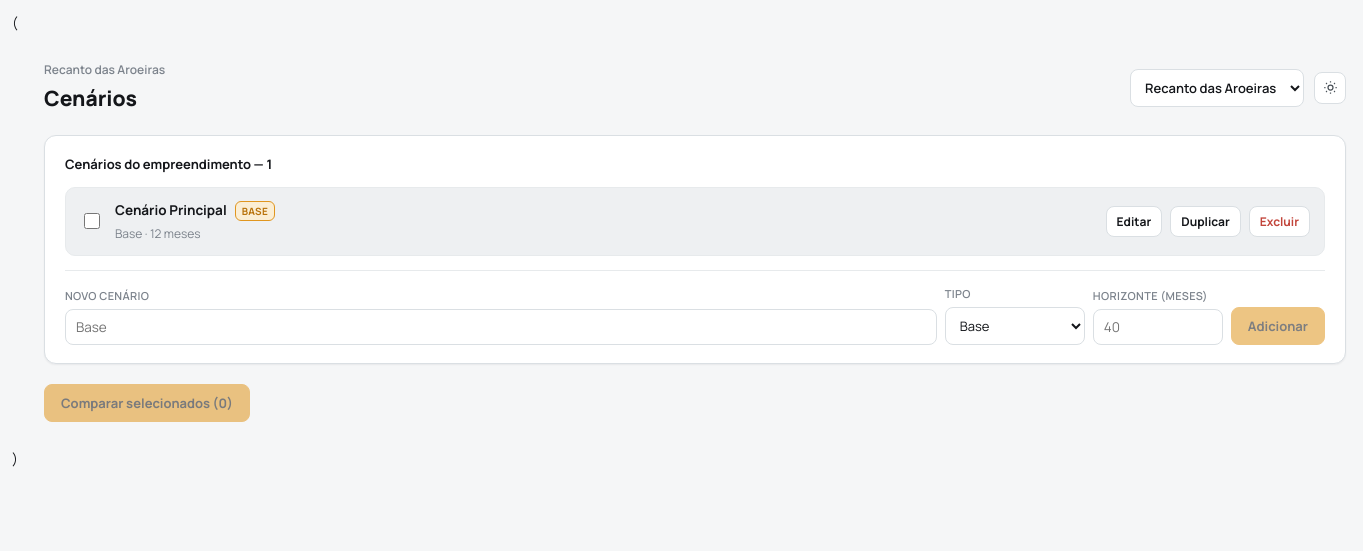
it: CenariosPage › mostra o erro do backend quando a comparação falha
Click the checkbox at (92, 221), box [84, 213, 100, 229]
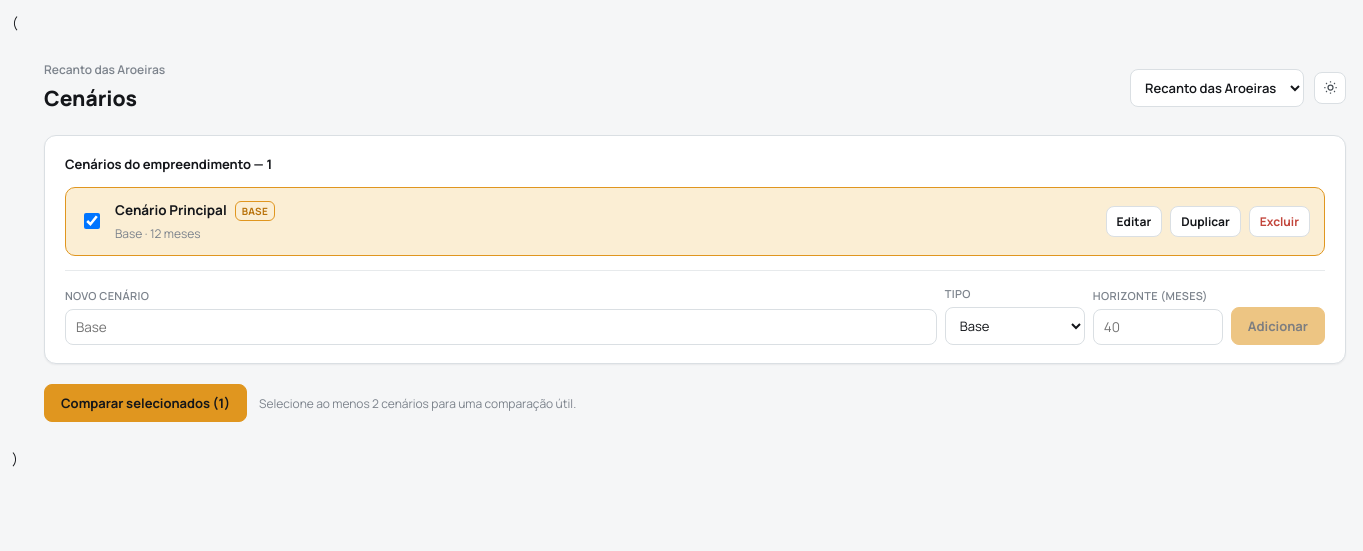
Click the button "Comparar selecionados (1)" at (146, 403), box [44, 384, 247, 422]
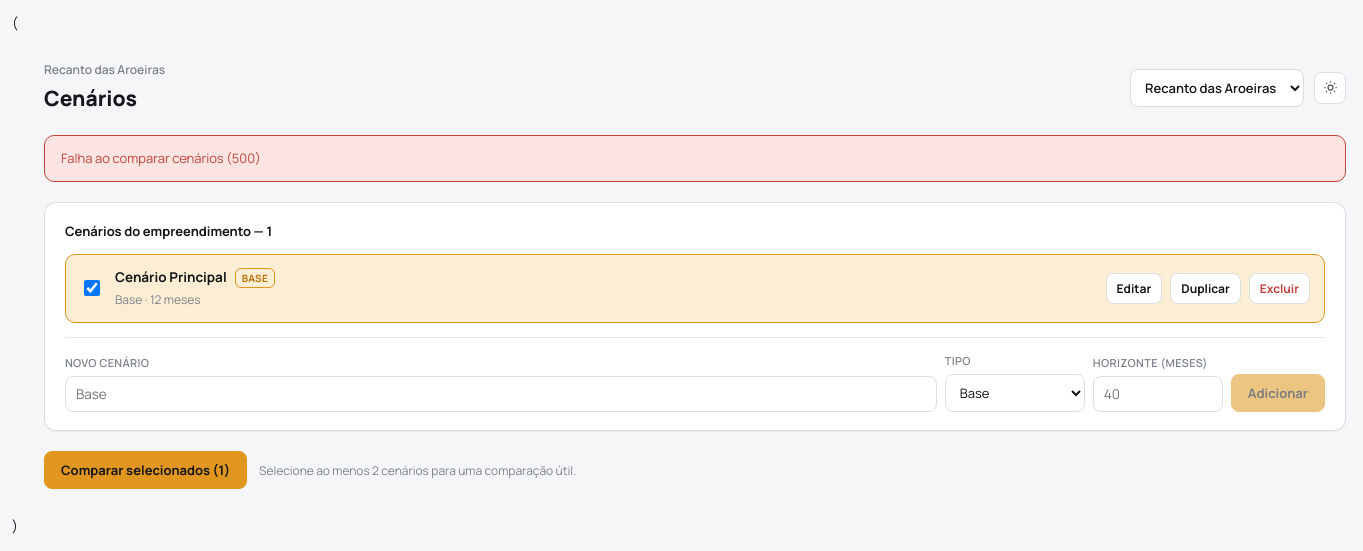
Check: the text "Falha ao comparar cenários (500)" is shown, box [44, 135, 1346, 182]
